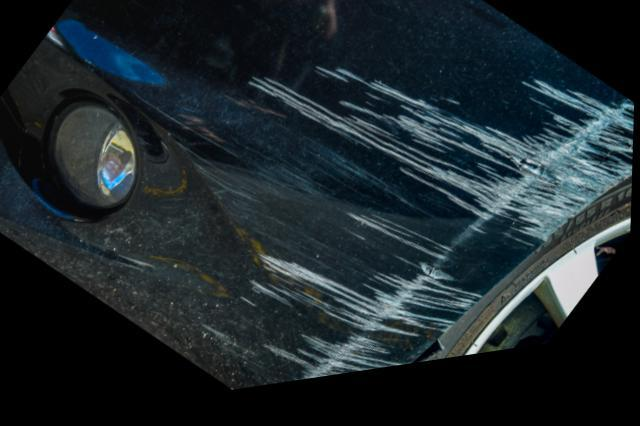scratch: (209, 73, 635, 395)
